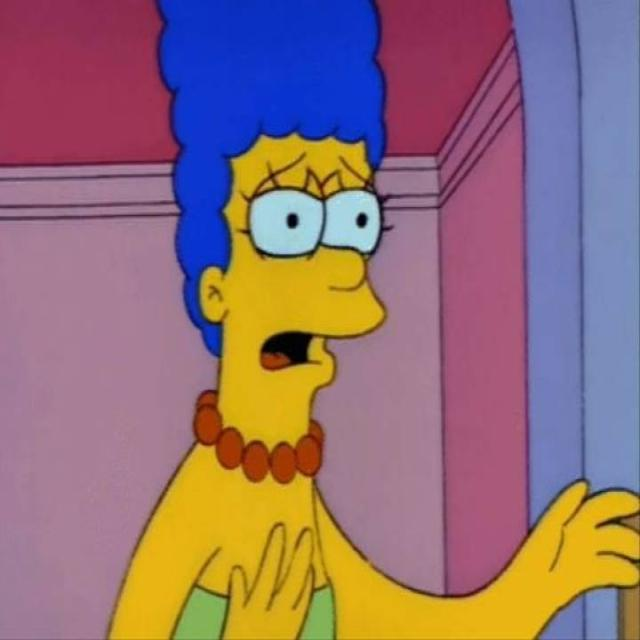Marge Simpson: (152, 0, 398, 489)
